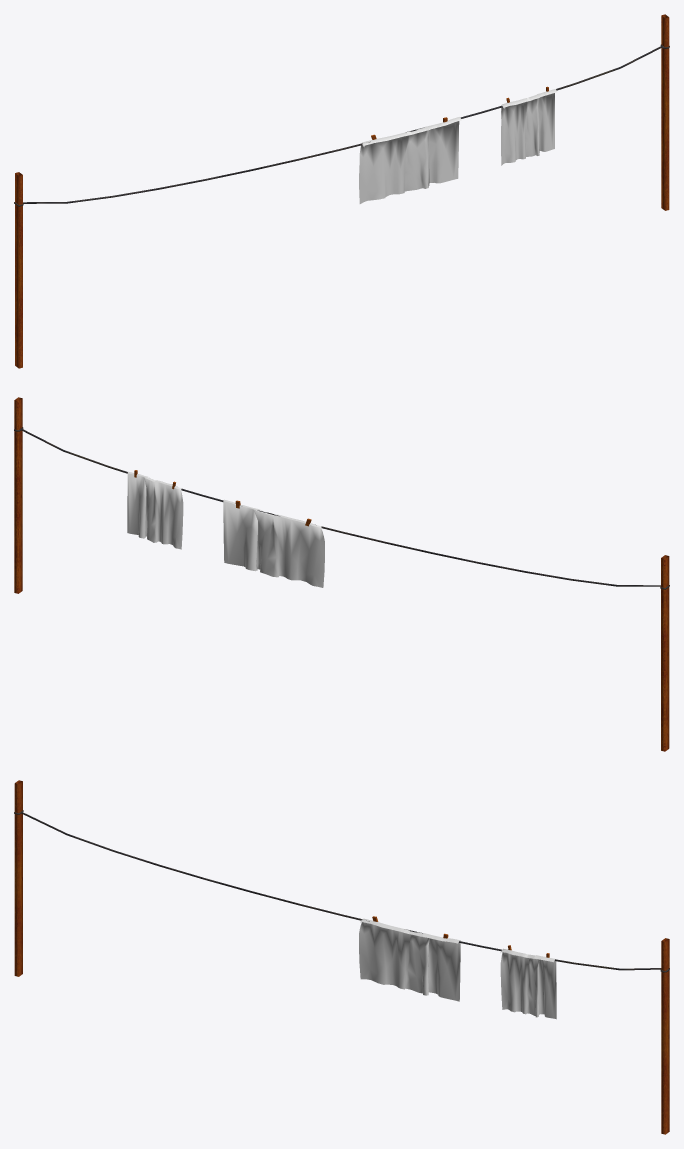
Rendered from Сloth.fbx.
3 renders of one model, top to bottom at view 1: azimuth 30°, elevation 25°; view 2: azimuth 150°, elevation 25°; view 3: azimuth 330°, elevation 25°, orthographic.
Visible parts, largest first — view 1: Сloth; view 2: Сloth; view 3: Сloth.
Part boxes in pixels (x1,y1,x2,y2): Сloth: (14, 14, 669, 368); Сloth: (14, 397, 669, 751); Сloth: (14, 780, 669, 1134).
Bounding box in the file's own units: 1005 × 284 × 14.26.
